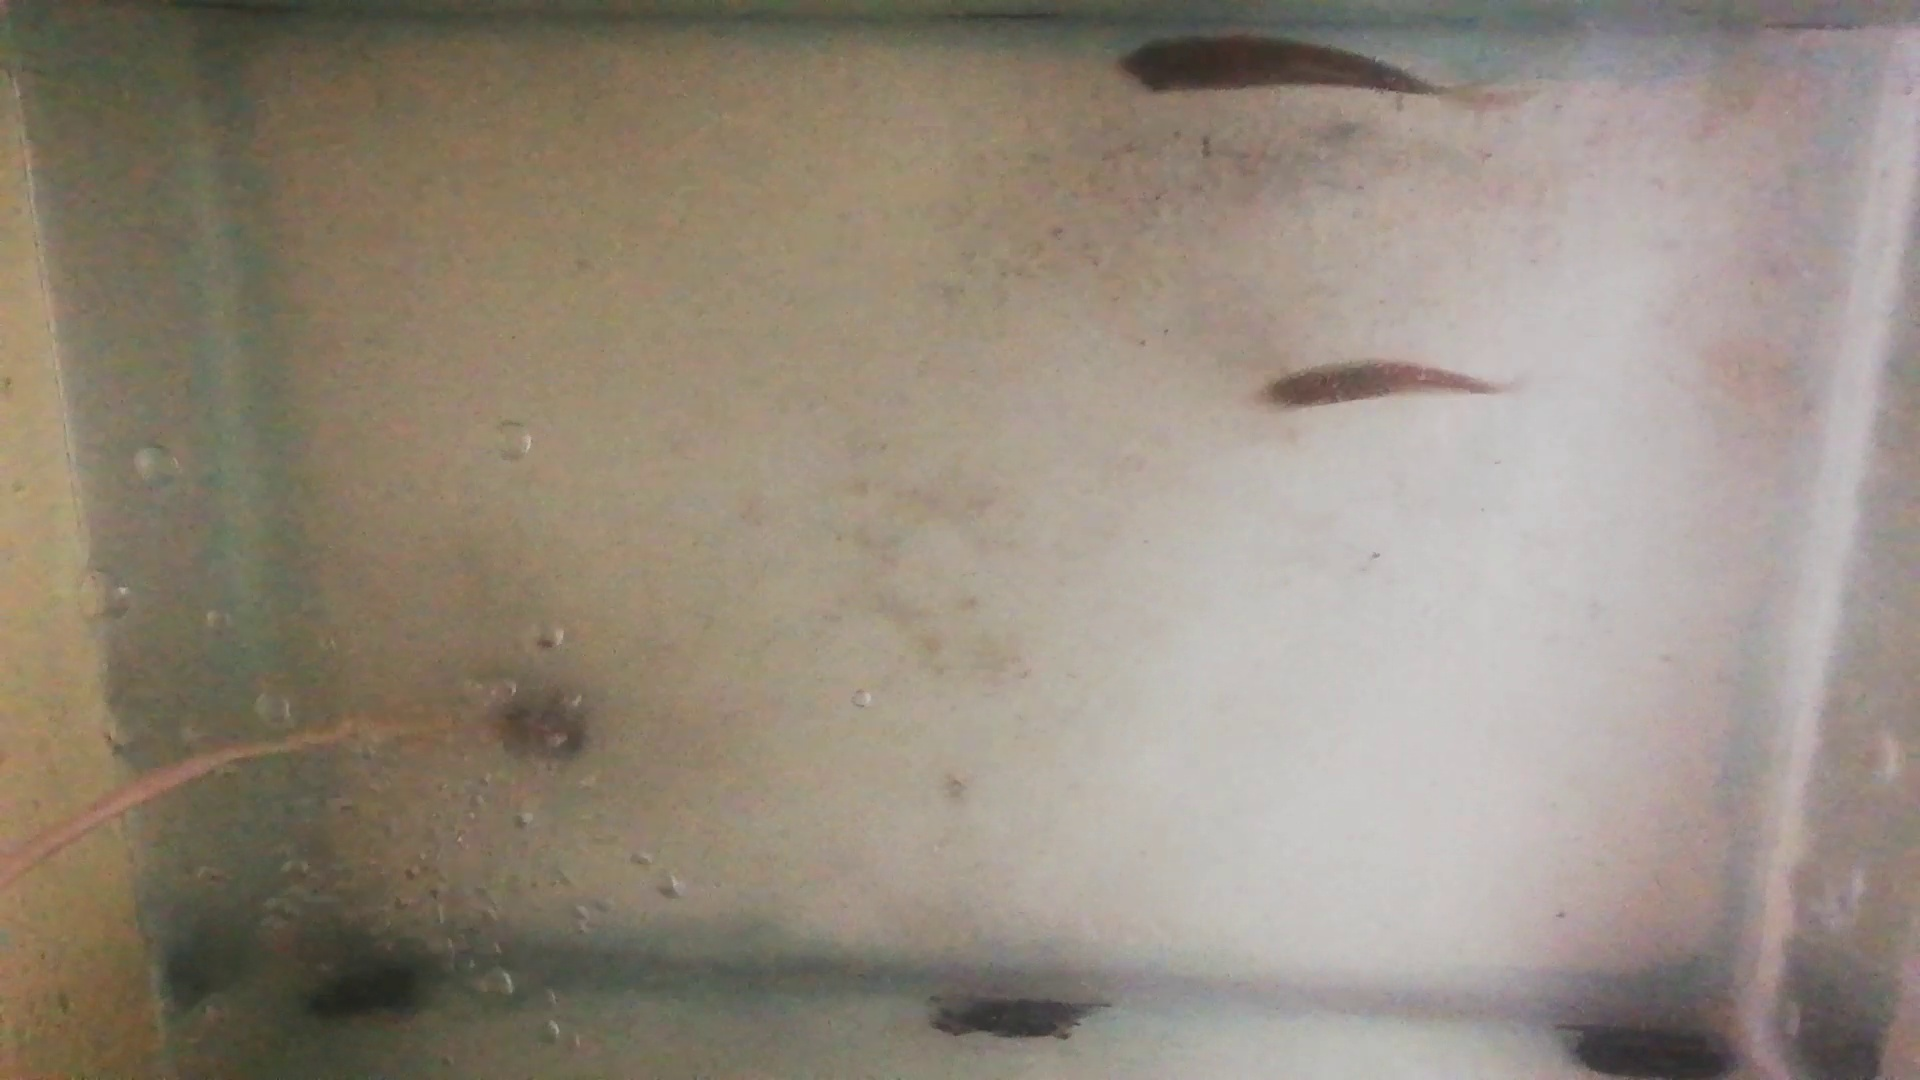fish: (1120, 34, 1443, 98), (1258, 359, 1493, 411)
